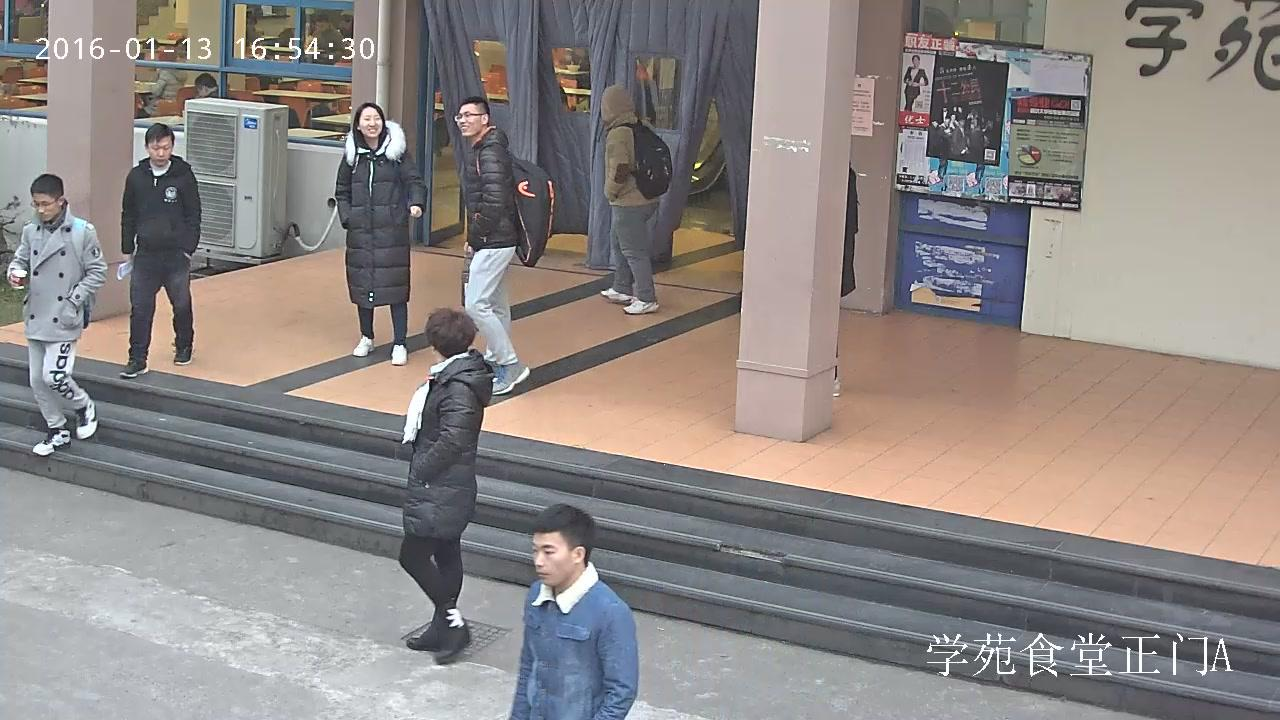person: (395, 307, 492, 665), (454, 97, 559, 395), (5, 174, 108, 456), (509, 502, 639, 720), (333, 102, 429, 366), (115, 123, 202, 376), (600, 83, 671, 310), (135, 52, 188, 118), (902, 54, 929, 111)
